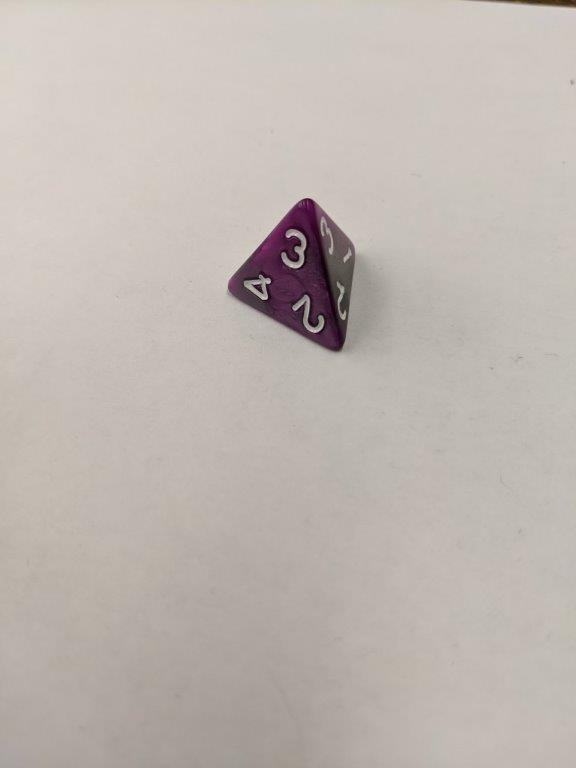d4-3: (222, 194, 362, 359)
